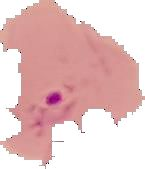parasitized: (27, 44, 112, 117)
